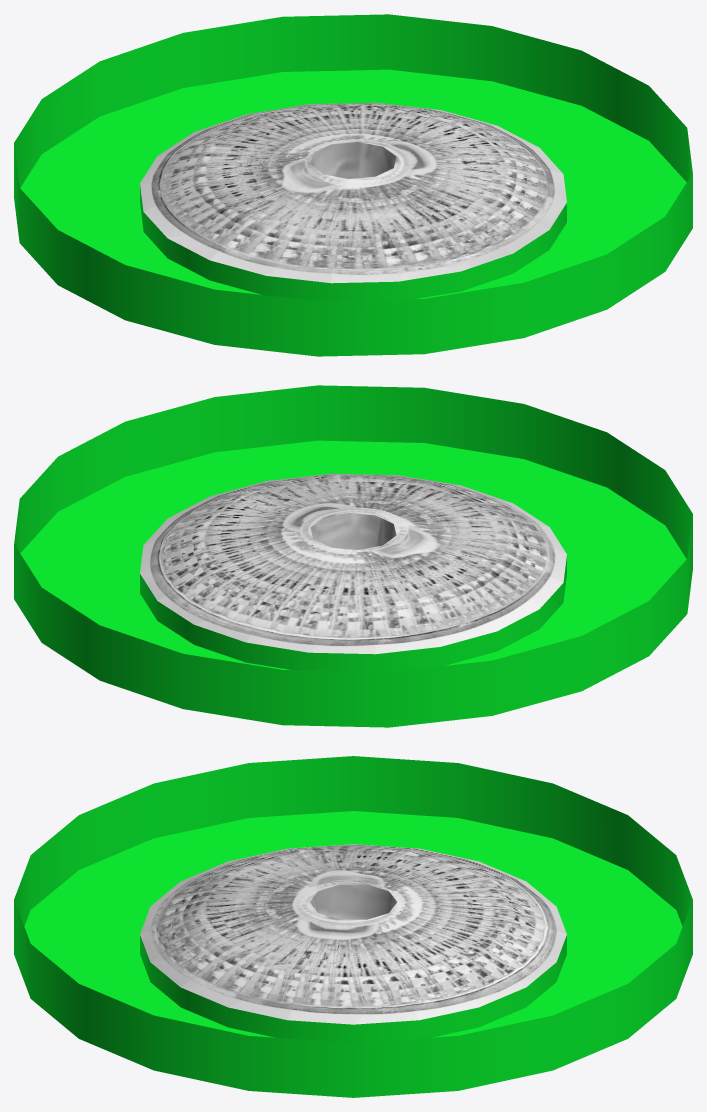
File: LightCeiling01_4.FBX
3 renders of one model, top to bottom at view 1: azimuth 30°, elevation 25°; view 2: azimuth 150°, elevation 25°; view 3: azimuth 270°, elevation 25°, orthographic.
Parts seen in each view (by area): view 1: LightCeiling01_4; view 2: LightCeiling01_4; view 3: LightCeiling01_4.
Boxes of the visible parts, x1=… form: LightCeiling01_4: x1=14, y1=14, x2=692, y2=356; LightCeiling01_4: x1=14, y1=385, x2=692, y2=727; LightCeiling01_4: x1=14, y1=756, x2=692, y2=1097.
Size of the model in its own units: 16.97 by 1.52 by 16.97.
